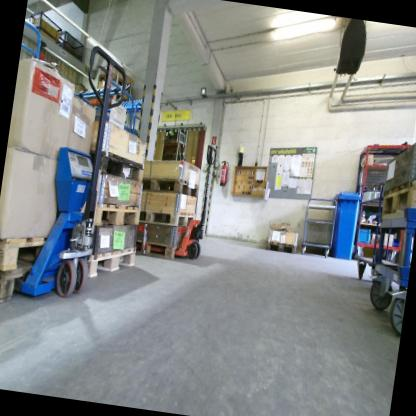pallet: (0, 229, 54, 277), (83, 238, 138, 285), (89, 146, 147, 181), (90, 195, 143, 232), (138, 203, 199, 234), (135, 236, 193, 267), (378, 177, 416, 224), (140, 172, 200, 199), (0, 266, 32, 314), (266, 240, 297, 253)
pallet_truck: (16, 34, 135, 308), (136, 132, 220, 261)
